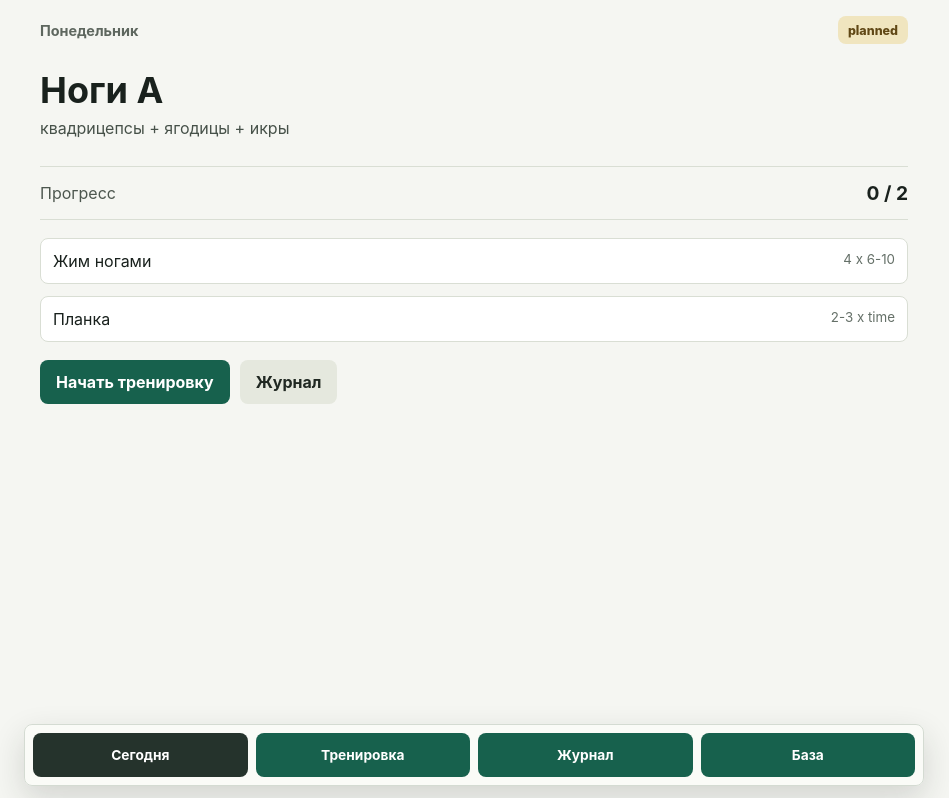
Test: Mini App tracker › submits a set from an exercise card
The image size is (949, 798).
Click the button "Начать тренировку" at (135, 382), box left=40, top=360, right=230, bottom=404
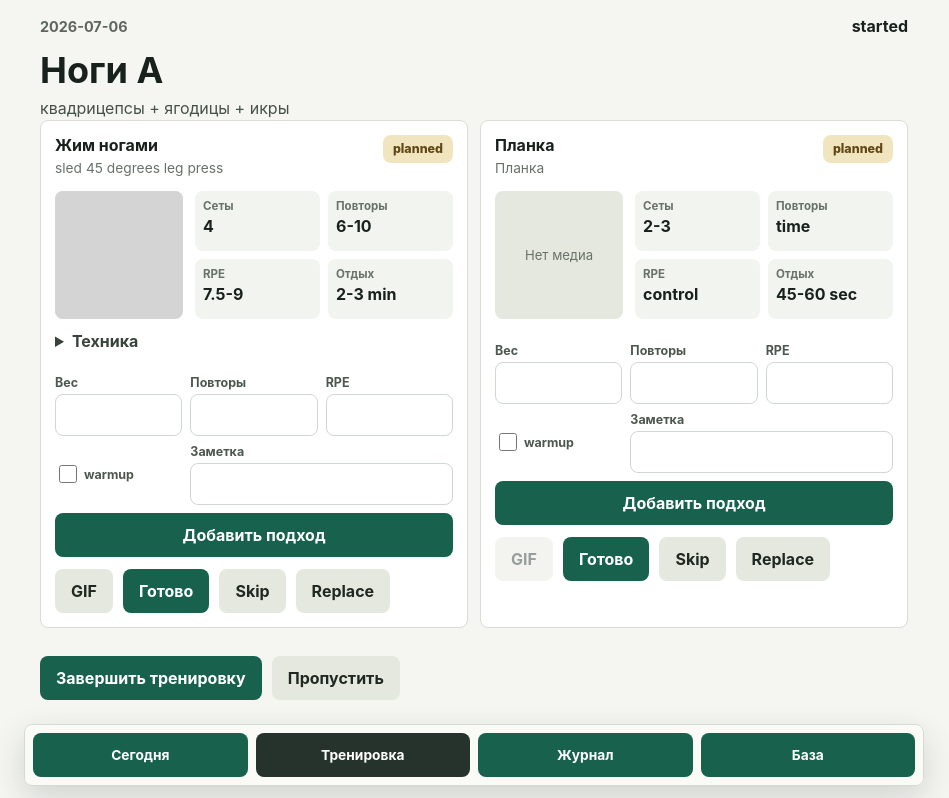
Type "82.5" into the field labelled "Вес" below "Техника" at (119, 415), box left=55, top=394, right=182, bottom=436
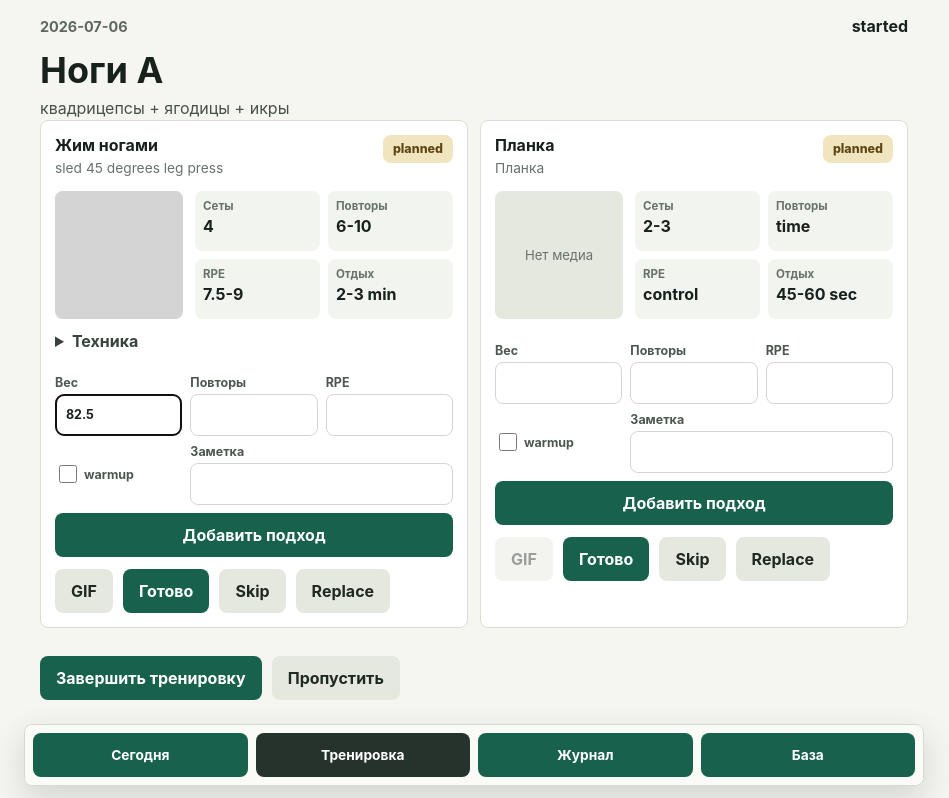
Type "9" into the field labelled "Повторы" below "Техника" at (254, 415), box left=190, top=394, right=318, bottom=436
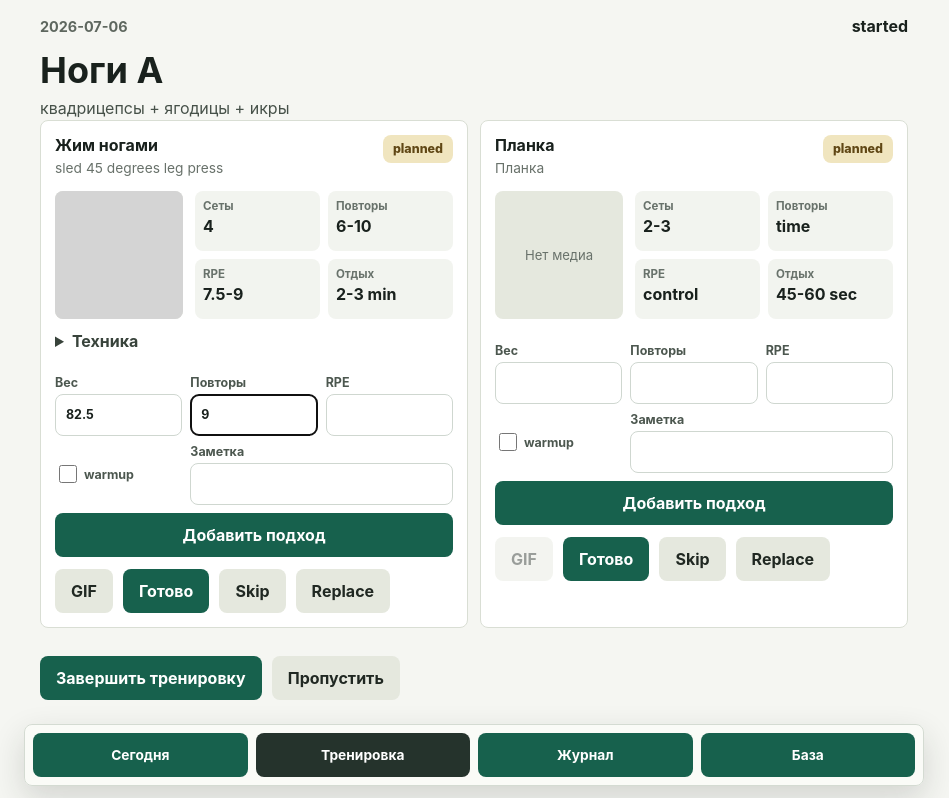
Type "8.5" into the field labelled "RPE" below "Техника" at (389, 415), box left=326, top=394, right=453, bottom=436
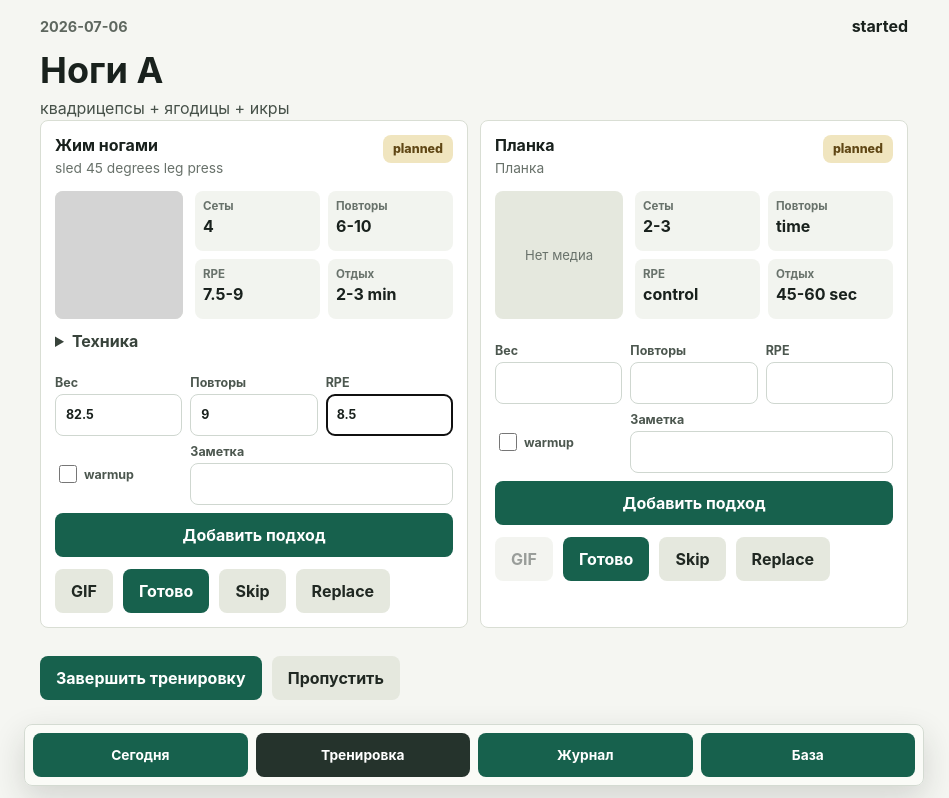
Type "solid" into the field labelled "Заметка" below "Техника" at (322, 484), box left=190, top=463, right=453, bottom=505
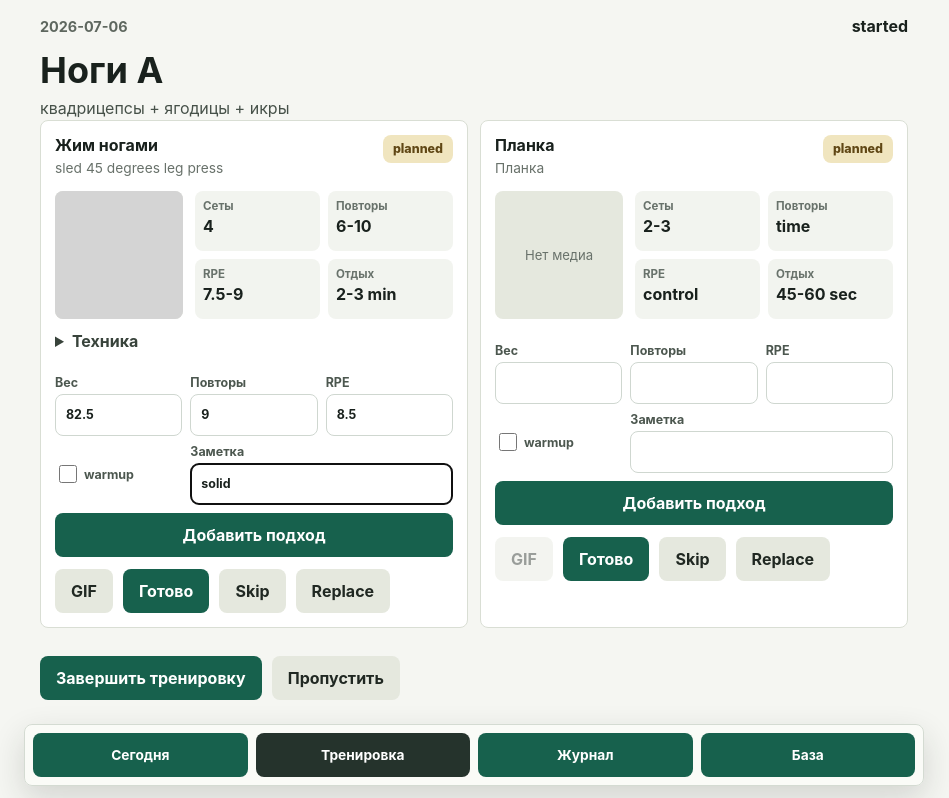
Click the button "Добавить подход" below "Техника" at (254, 535), box left=55, top=513, right=453, bottom=557
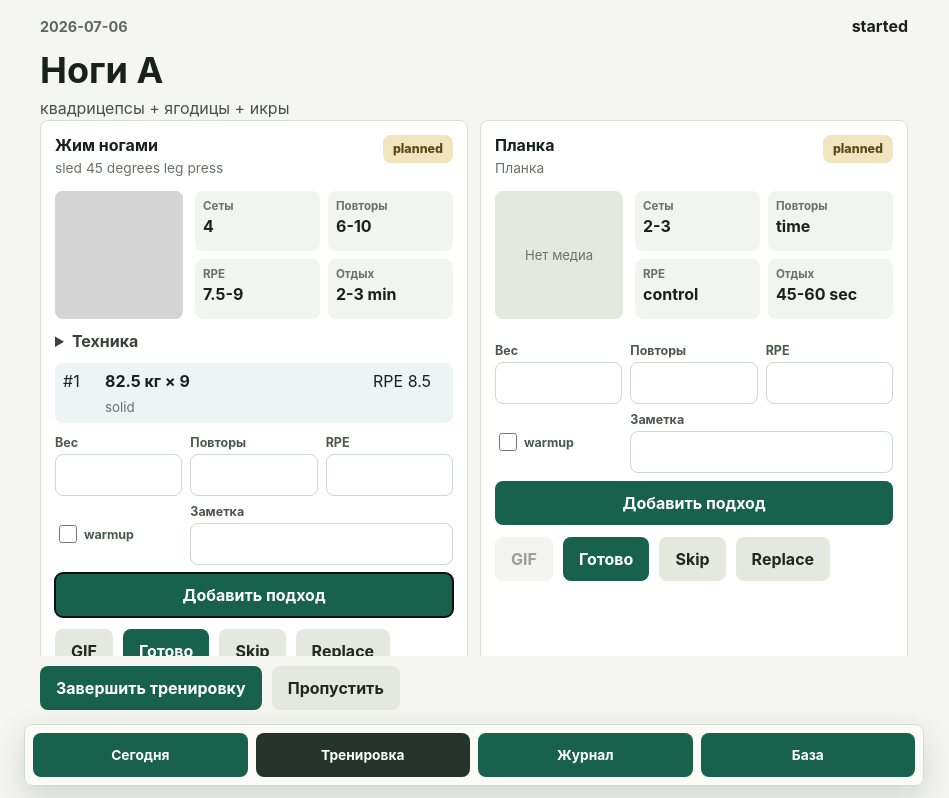
Expected: the text "82.5 кг × 9" is shown, left=105, top=371, right=190, bottom=391
